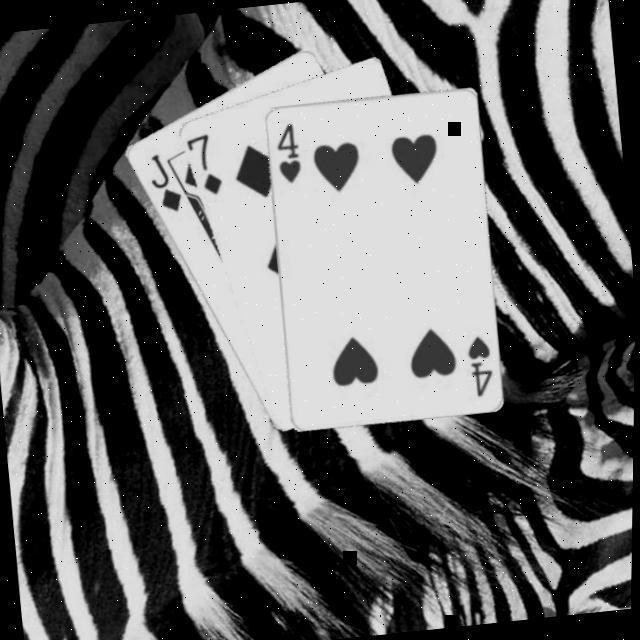4H: (463, 332, 499, 401), (271, 119, 307, 187)
7D: (185, 130, 227, 201)
JD: (144, 149, 188, 218)
